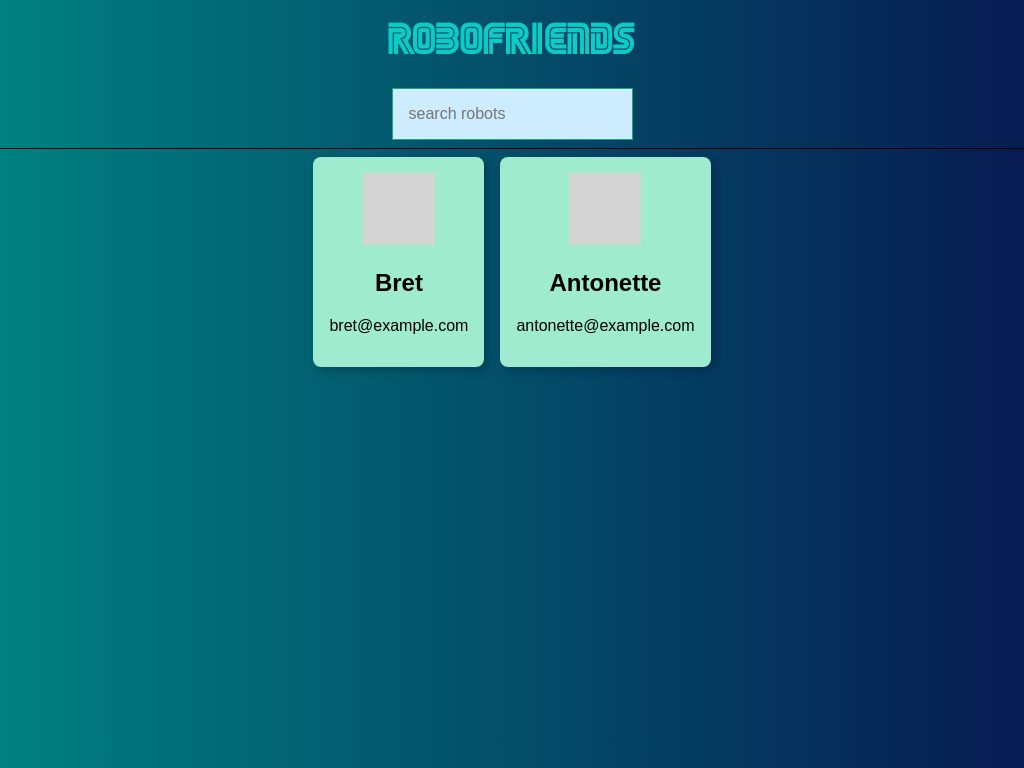
Test case: App › matches the full name as well as the username
This screenshot has width=1024, height=768.
Expected: the heading "Bret" is shown, [375,269,423,296]
Type "leanne" into the search field labelled "search robots". click: coordinates (512, 114)
box: [392,88,632,140]
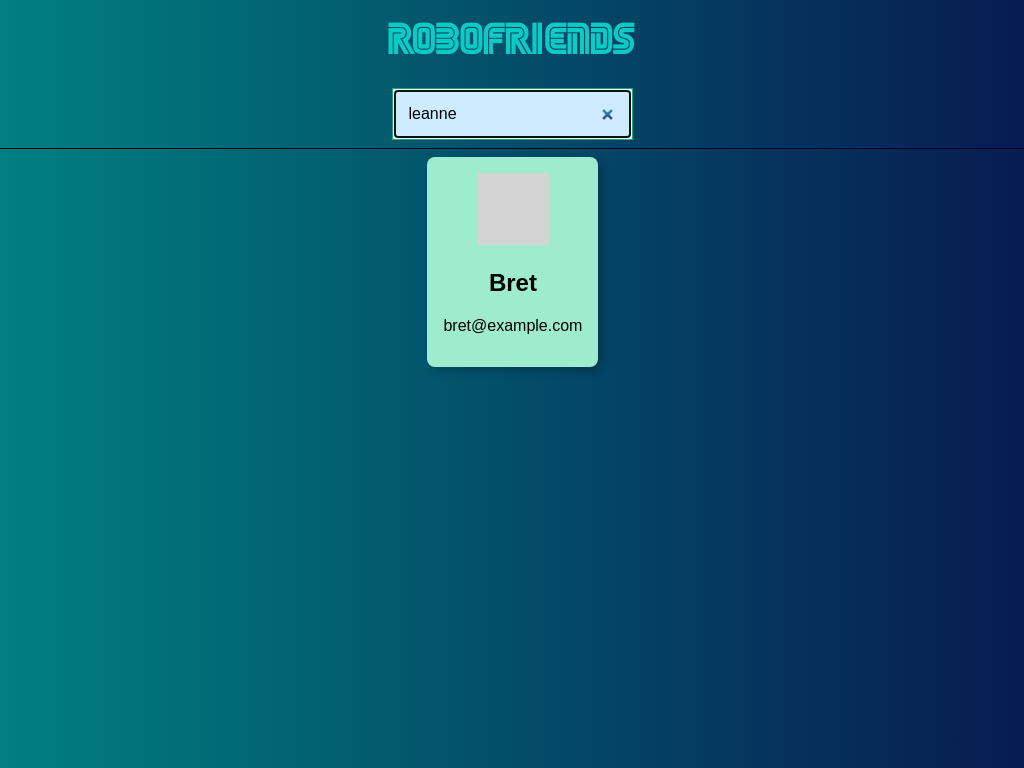
Expected: the heading "Bret" is shown, [488,269,536,296]
Expected: the heading "Antonette" is gone
